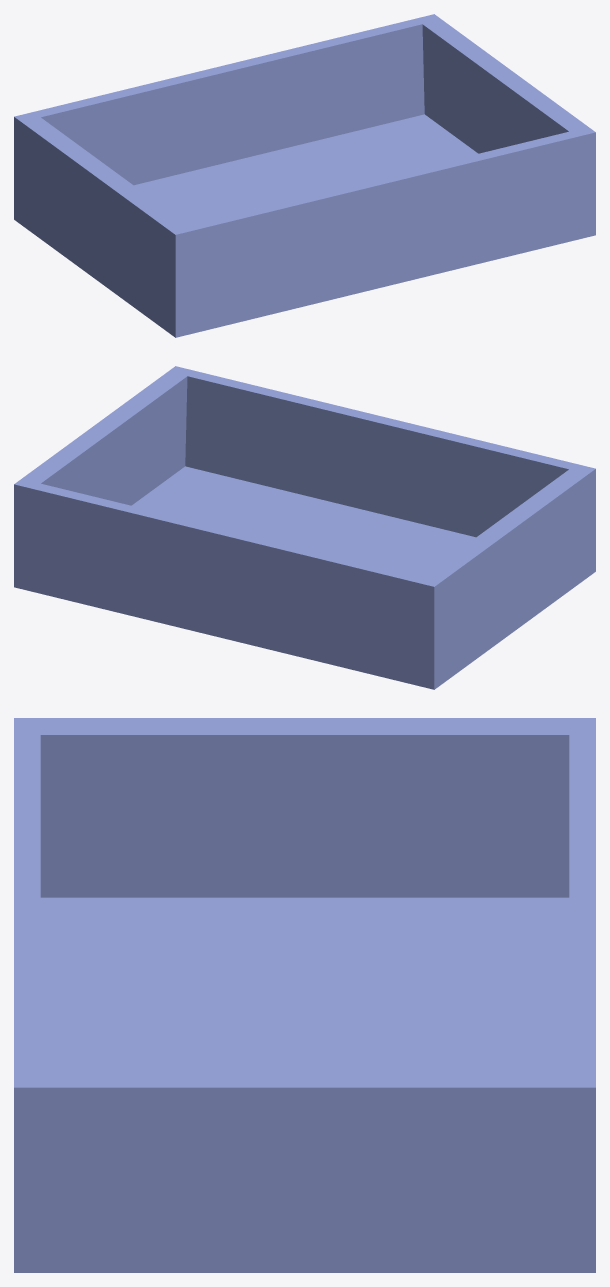
Rendered from partemapa.fbx.
The picture shows the model from 3 angles, top to bottom: view 1: azimuth 30°, elevation 25°; view 2: azimuth 150°, elevation 25°; view 3: azimuth 270°, elevation 25°; orthographic projection. The views are drawn at different scales.
Parts seen in each view (by area): view 1: Plane; view 2: Plane; view 3: Plane.
Boxes of the visible parts, left/top/right/bottom form: Plane: left=14, top=14, right=595, bottom=337; Plane: left=14, top=366, right=595, bottom=689; Plane: left=14, top=718, right=595, bottom=1272.
Bounding box in the file's own units: 33.44 × 7.83 × 22.26.
